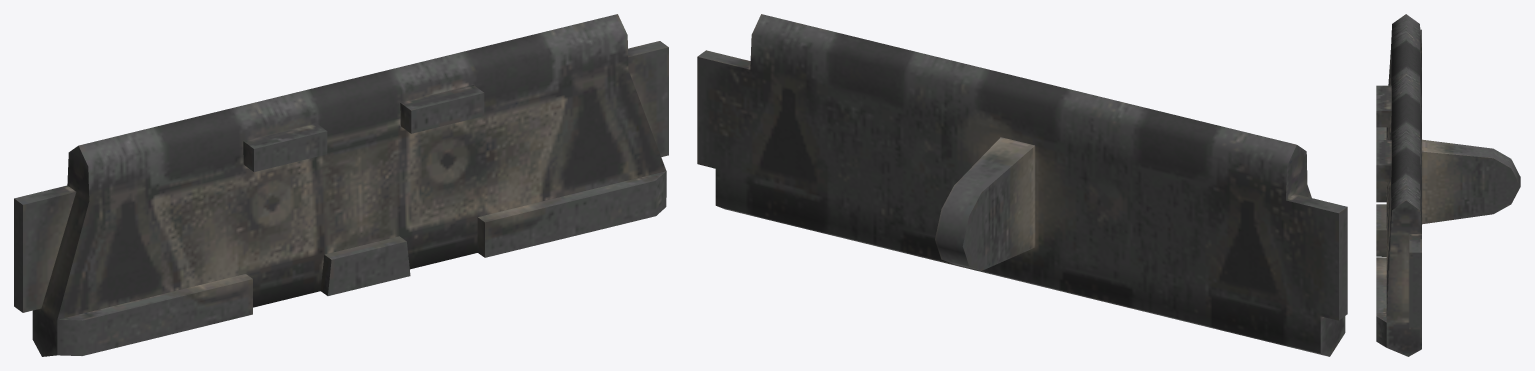
3 renders of one model, left to right at view 1: azimuth 30°, elevation 25°; view 2: azimuth 150°, elevation 25°; view 3: azimuth 270°, elevation 25°, orthographic. The views are drawn at different scales.
Visible parts, largest first — view 1: set_0_group_0; view 2: set_0_group_0; view 3: set_0_group_0.
Part boxes in pixels (x1=…): set_0_group_0: x1=14, y1=14, x2=668, y2=356; set_0_group_0: x1=697, y1=14, x2=1347, y2=356; set_0_group_0: x1=1376, y1=14, x2=1520, y2=356.
Bounding box in the file's own units: 0.7003 × 0.2114 × 0.1914.
Materials: 1 (1 with a texture image).
